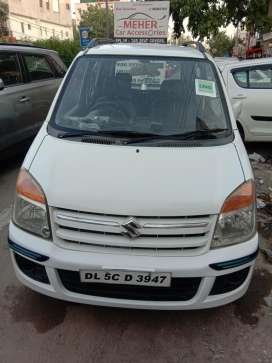license_plate: (80, 266, 171, 287)
